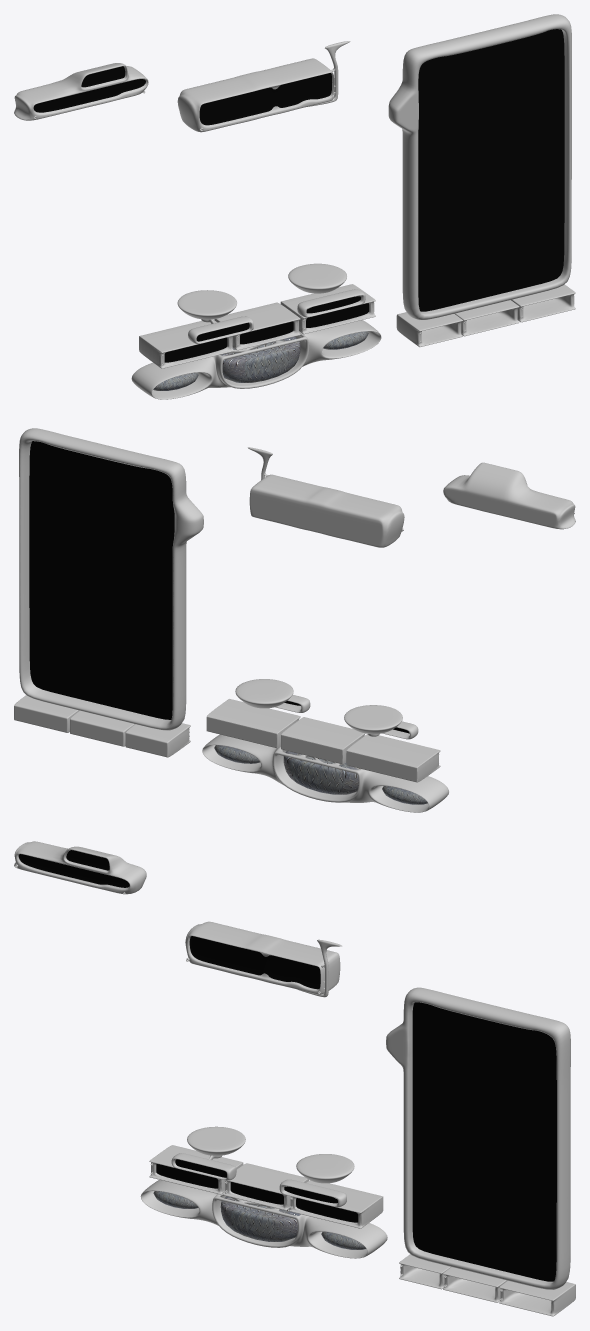
The model's file is SM_MainMenu_Lobby_00.fbx.
3 renders of one model, top to bottom at view 1: azimuth 30°, elevation 25°; view 2: azimuth 150°, elevation 25°; view 3: azimuth 330°, elevation 25°, orthographic.
Parts seen in each view (by area): view 1: mapscreen, lobbyname_screen, SM_MainMenu_Block_00.001, lobbyname, SM_MainMenu_Block_00.007, SM_MainMenu_Block_00.026, SM_MainMenu_Block_00.024, start_button, SM_MainMenu_Block_00.017, SM_MainMenu_Block_00.006; view 2: mapscreen, lobbyname_screen, SM_MainMenu_Block_00.001, lobbyname, SM_MainMenu_Block_00.007, SM_MainMenu_Block_00.006, SM_MainMenu_Block_00.017, start_button, SM_MainMenu_Block_00.024, SM_MainMenu_Block_00.026, leave_button, maps_button; view 3: mapscreen, lobbyname_screen, SM_MainMenu_Block_00.001, lobbyname, SM_MainMenu_Block_00.026, SM_MainMenu_Block_00.024, SM_MainMenu_Block_00.006, SM_MainMenu_Block_00.017, start_button, SM_MainMenu_Block_00.007.
Part boxes in pixels (left/top/right/bottom): mapscreen: left=388, top=14, right=575, bottom=347; lobbyname_screen: left=177, top=41, right=350, bottom=132; SM_MainMenu_Block_00.001: left=131, top=320, right=381, bottom=399; lobbyname: left=14, top=63, right=148, bottom=120; SM_MainMenu_Block_00.007: left=139, top=320, right=234, bottom=368; SM_MainMenu_Block_00.026: left=288, top=263, right=365, bottom=317; SM_MainMenu_Block_00.024: left=177, top=290, right=253, bottom=343; start_button: left=221, top=336, right=300, bottom=382; SM_MainMenu_Block_00.017: left=214, top=302, right=300, bottom=350; SM_MainMenu_Block_00.006: left=280, top=284, right=375, bottom=334; mapscreen: left=14, top=428, right=203, bottom=757; lobbyname_screen: left=248, top=447, right=404, bottom=547; SM_MainMenu_Block_00.001: left=202, top=734, right=448, bottom=812; lobbyname: left=443, top=462, right=575, bottom=529; SM_MainMenu_Block_00.007: left=346, top=734, right=440, bottom=782; SM_MainMenu_Block_00.006: left=206, top=699, right=300, bottom=748; SM_MainMenu_Block_00.017: left=281, top=717, right=365, bottom=764; start_button: left=283, top=751, right=360, bottom=794; SM_MainMenu_Block_00.024: left=344, top=705, right=418, bottom=739; SM_MainMenu_Block_00.026: left=235, top=679, right=310, bottom=712; leave_button: left=382, top=786, right=427, bottom=804; maps_button: left=214, top=745, right=259, bottom=763; mapscreen: left=386, top=987, right=575, bottom=1316; lobbyname_screen: left=185, top=921, right=341, bottom=997; SM_MainMenu_Block_00.001: left=140, top=1180, right=387, bottom=1258; lobbyname: left=14, top=841, right=146, bottom=894; SM_MainMenu_Block_00.026: left=279, top=1154, right=354, bottom=1207; SM_MainMenu_Block_00.024: left=171, top=1126, right=245, bottom=1180; SM_MainMenu_Block_00.006: left=289, top=1180, right=383, bottom=1228; SM_MainMenu_Block_00.017: left=224, top=1163, right=308, bottom=1210; start_button: left=220, top=1196, right=300, bottom=1241; SM_MainMenu_Block_00.007: left=149, top=1145, right=243, bottom=1194.
Bounding box in the file's own units: 1753 × 1094 × 175.
